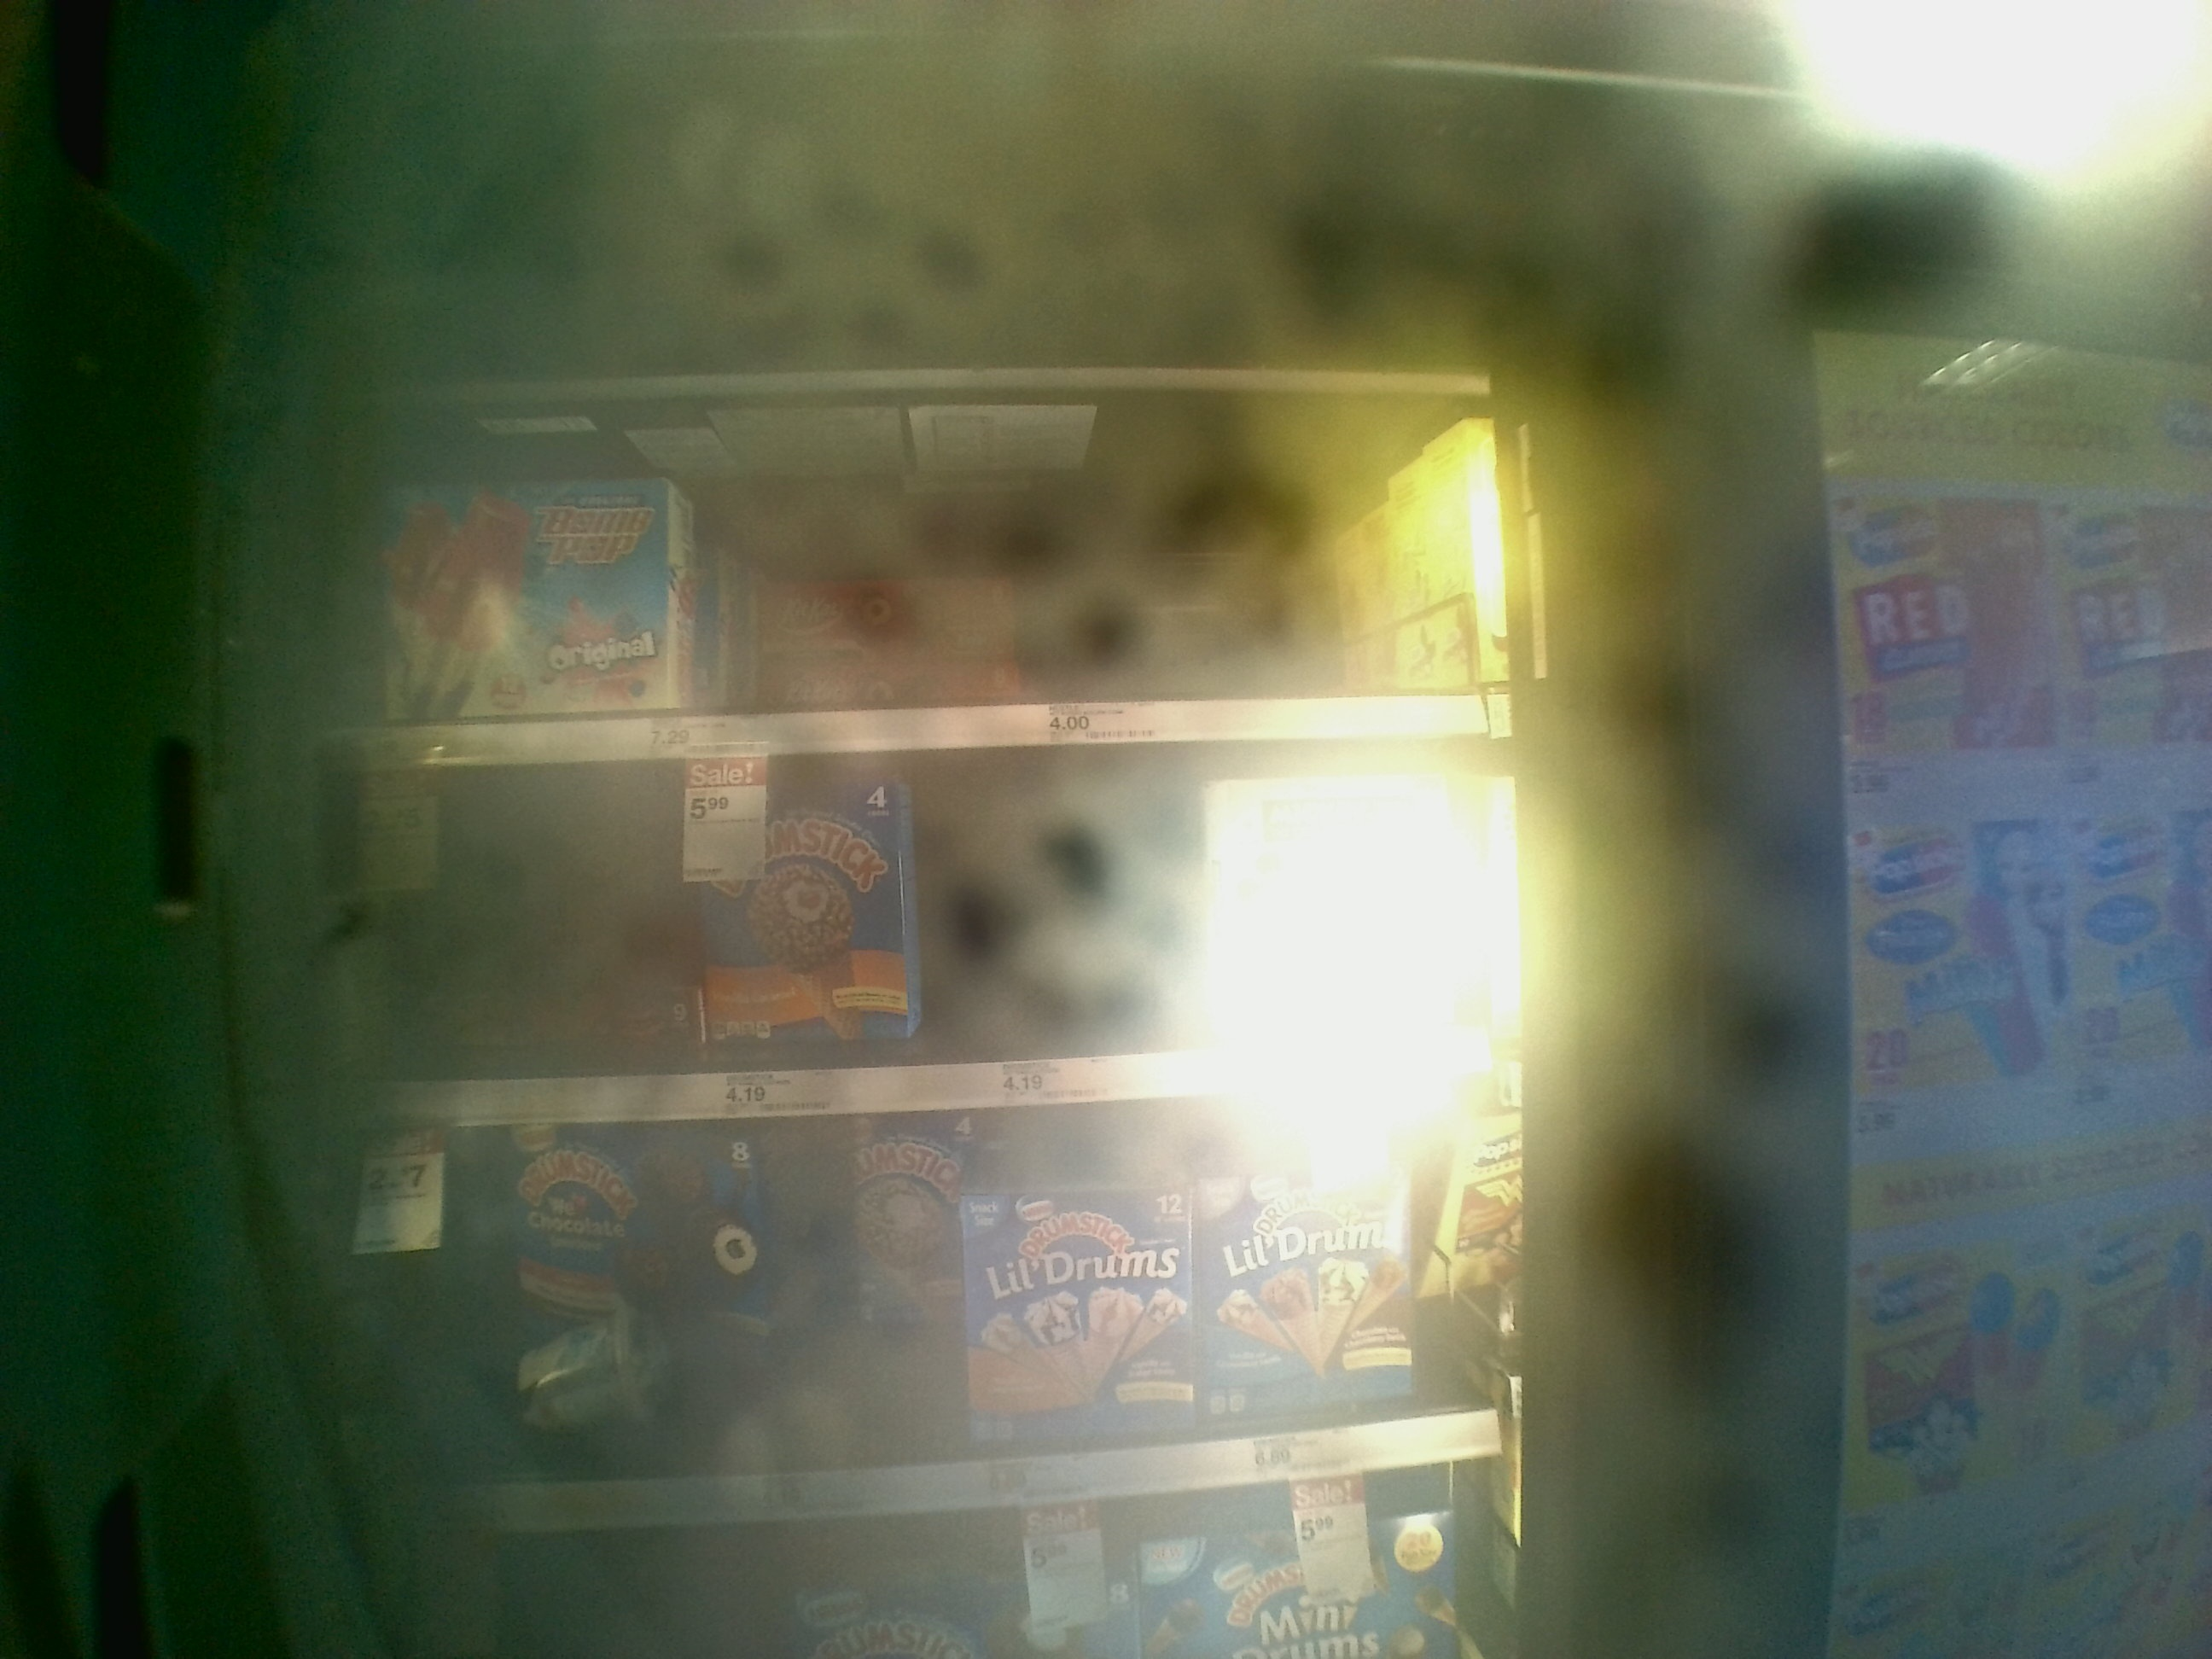shelf: (350, 1087, 1531, 1535), (303, 727, 1536, 1129), (294, 385, 1505, 774)
